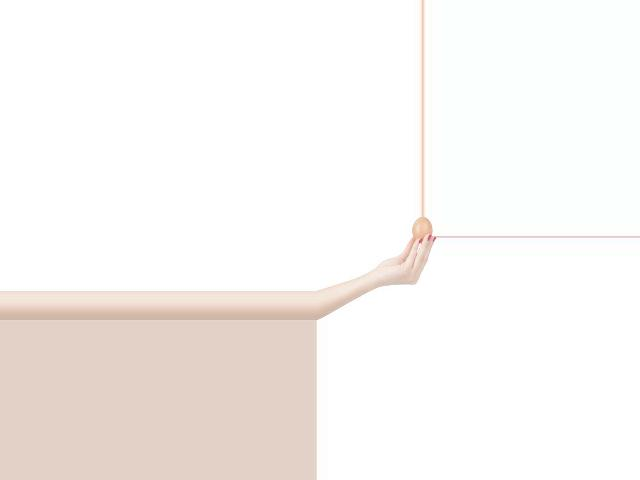egg: (411, 217, 432, 243)
